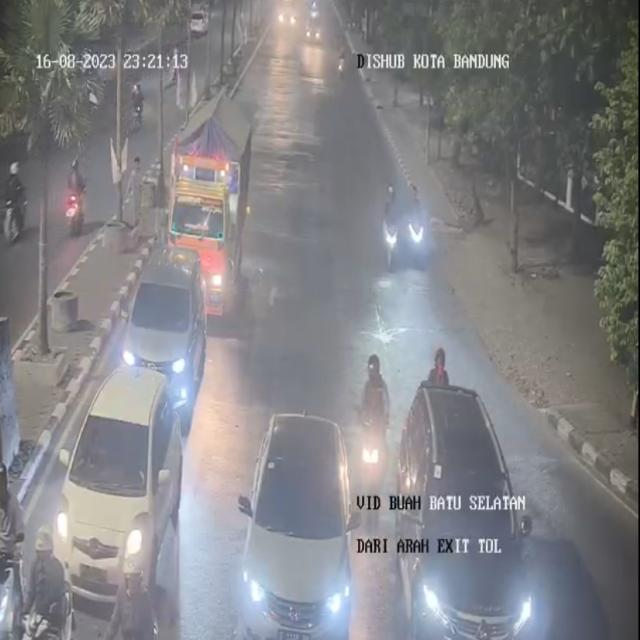cars: (392, 373, 529, 640), (40, 358, 184, 600), (241, 401, 352, 640), (120, 242, 207, 422)
motorcycle: (356, 352, 392, 496), (112, 547, 159, 640), (0, 460, 24, 640), (32, 518, 68, 630), (402, 177, 434, 276), (374, 175, 404, 280), (424, 342, 453, 389)
truck: (174, 98, 260, 325)
